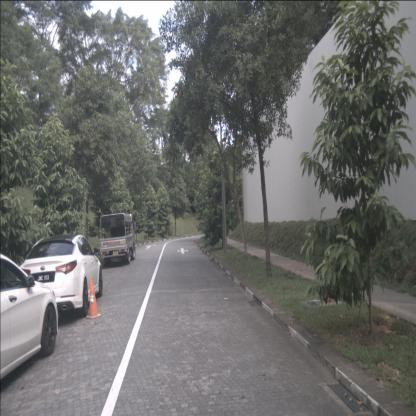cone: (85, 276, 102, 319)
